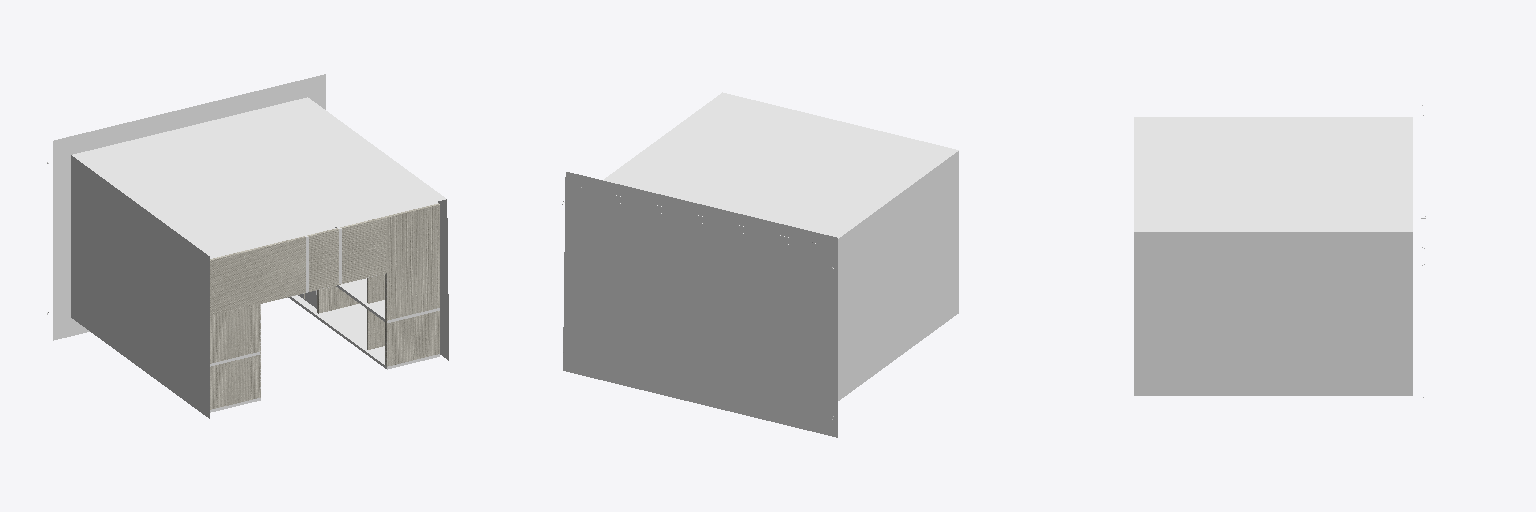
3 renders of one model, left to right at view 1: azimuth 30°, elevation 25°; view 2: azimuth 150°, elevation 25°; view 3: azimuth 270°, elevation 25°, orthographic.
Visible parts, largest first — view 1: Object_358, Object_360, Object_188, Object_128, Object_361, Object_367, Object_187, Object_127, Object_229, Object_4, Object_345, Object_169 (+4 smaller); view 2: Object_357, Object_358, Object_360, Object_365, Object_361, Object_367, Object_363; view 3: Object_359, Object_358.
Part boxes in pixels (bbox=[...]): Object_358: bbox=[72, 97, 445, 256]; Object_360: bbox=[71, 155, 209, 418]; Object_188: bbox=[386, 203, 439, 320]; Object_128: bbox=[210, 236, 305, 315]; Object_361: bbox=[54, 74, 324, 154]; Object_367: bbox=[53, 141, 70, 339]; Object_187: bbox=[340, 216, 386, 283]; Object_127: bbox=[210, 304, 259, 363]; Object_229: bbox=[387, 311, 439, 366]; Object_4: bbox=[210, 355, 259, 409]; Object_345: bbox=[288, 295, 439, 369]; Object_169: bbox=[307, 228, 338, 291]; Object_357: bbox=[581, 194, 819, 414]; Object_358: bbox=[603, 92, 958, 244]; Object_360: bbox=[838, 151, 958, 400]; Object_365: bbox=[563, 357, 837, 437]; Object_361: bbox=[566, 172, 836, 251]; Object_367: bbox=[820, 238, 837, 436]; Object_363: bbox=[563, 173, 582, 369]; Object_359: bbox=[1134, 232, 1412, 395]; Object_358: bbox=[1134, 117, 1412, 231].
Size of the model in its own units: 3095 by 2134 by 2817.
13 materials, 1 textured.